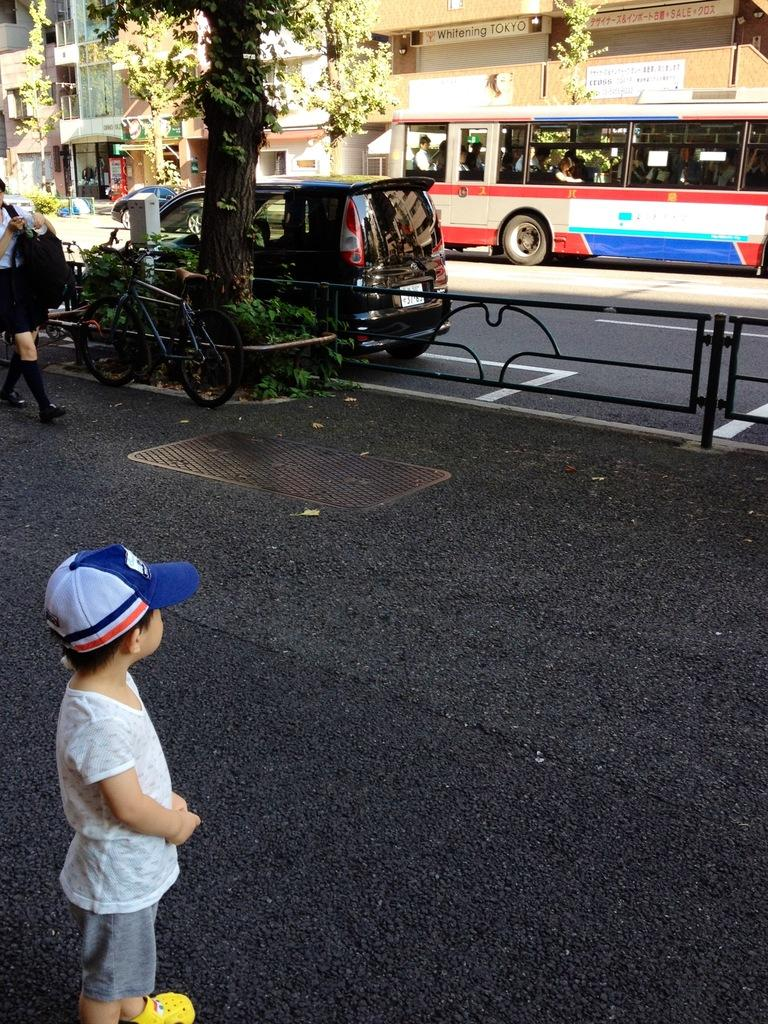Hat: (46, 542, 198, 656)
